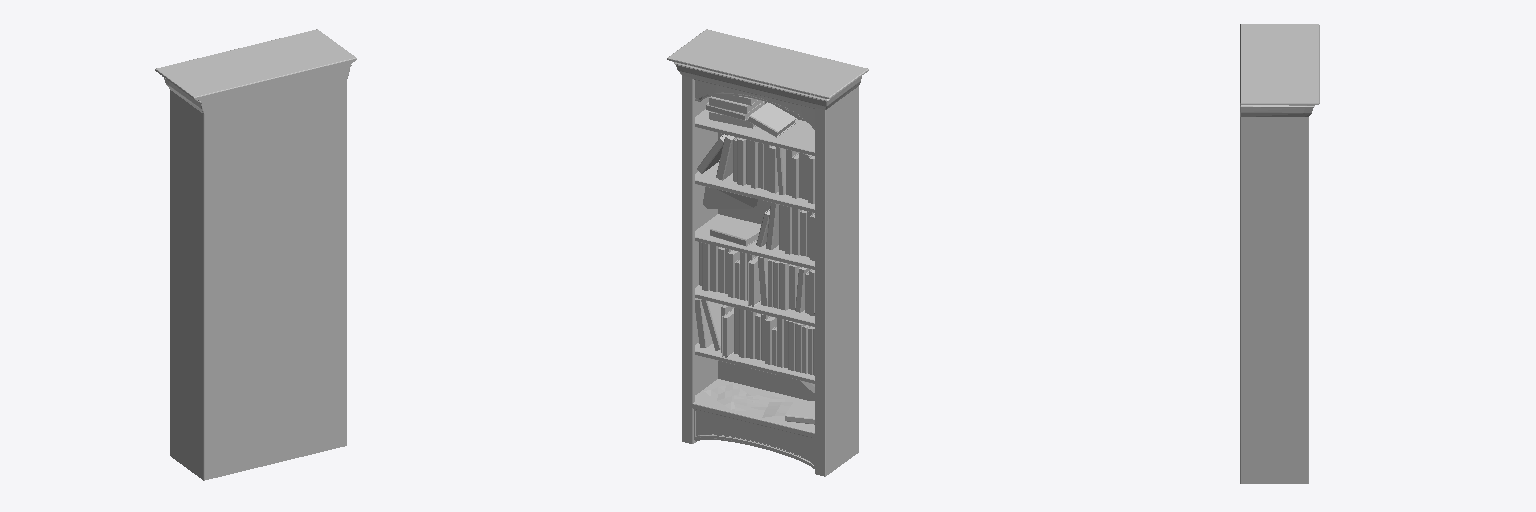
Rendered from Bookshelf.obj.
3 renders of one model, left to right at view 1: azimuth 30°, elevation 25°; view 2: azimuth 150°, elevation 25°; view 3: azimuth 270°, elevation 25°, orthographic.
Parts seen in each view (by area): view 1: Old_Dusty_Bookshelf; view 2: Old_Dusty_Bookshelf, Old_Dusty_Bookshelf_Spiderwebs; view 3: Old_Dusty_Bookshelf.
Part boxes in pixels (bbox=[...]): Old_Dusty_Bookshelf: bbox=[155, 29, 356, 480]; Old_Dusty_Bookshelf: bbox=[667, 29, 868, 476]; Old_Dusty_Bookshelf_Spiderwebs: bbox=[703, 187, 814, 392]; Old_Dusty_Bookshelf: bbox=[1240, 24, 1319, 483].
Size of the model in its own units: 0.9199 by 2.08 by 0.3865.